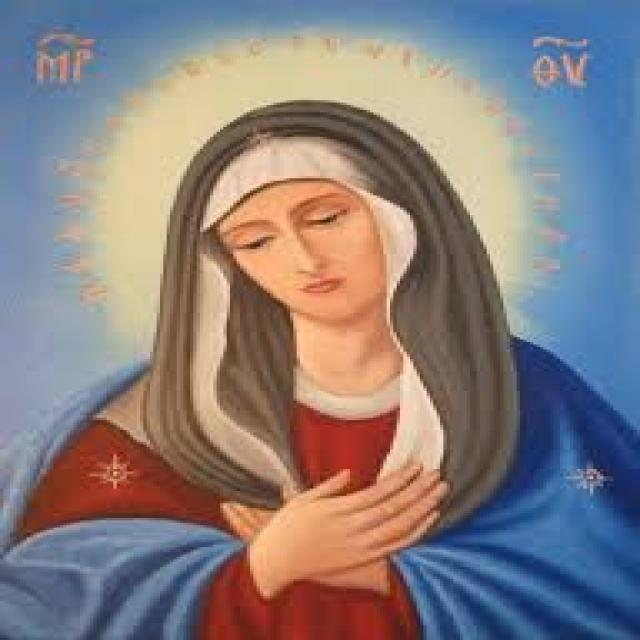mother of god: (3, 85, 640, 640)
